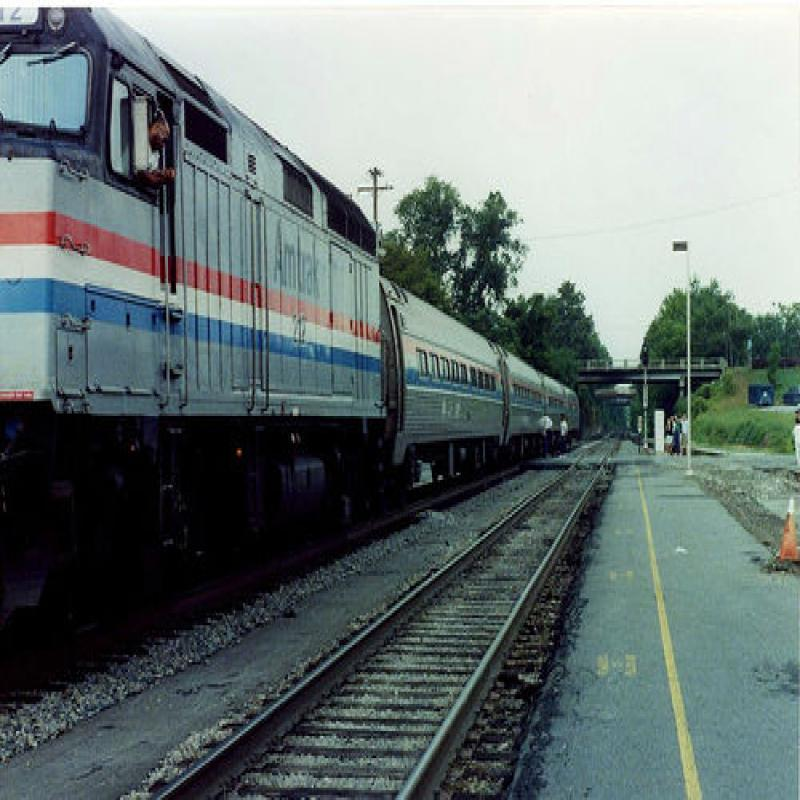train: (3, 1, 582, 688)
